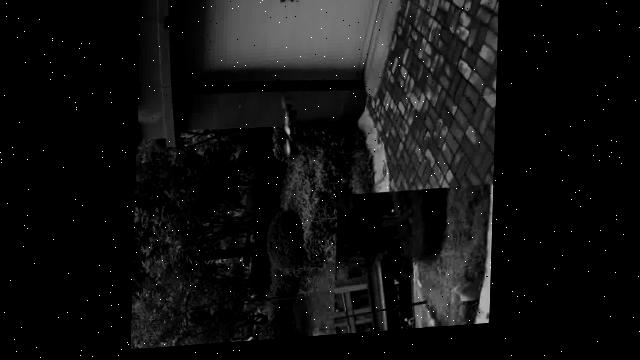drone: (276, 92, 311, 174)
